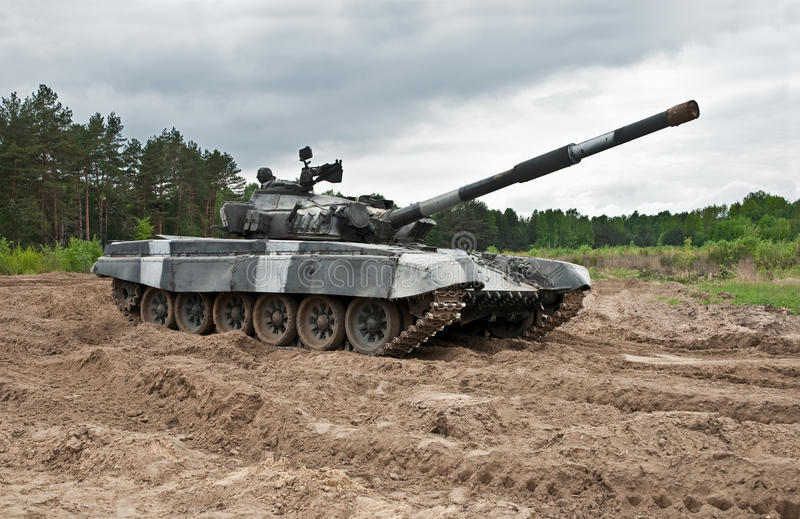t72: (89, 99, 704, 357)
